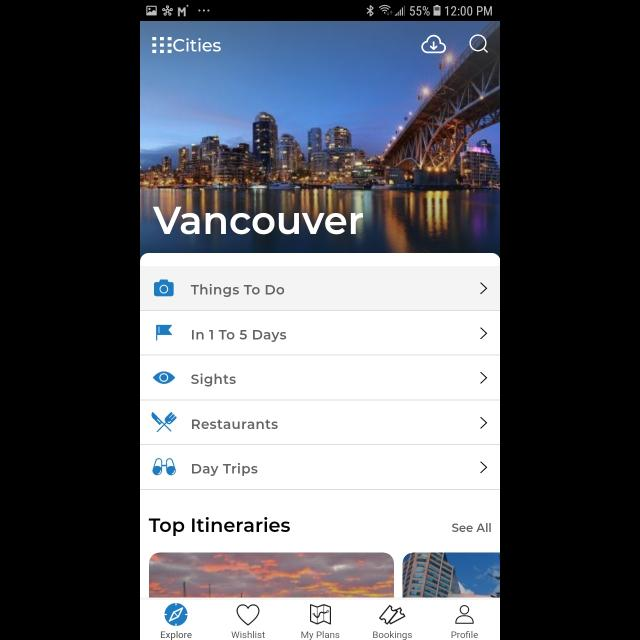icon: (378, 605, 406, 625), (165, 602, 188, 626), (237, 604, 260, 626), (310, 604, 332, 624), (422, 36, 446, 54), (468, 34, 488, 54), (154, 279, 174, 297), (454, 606, 474, 624), (152, 37, 172, 54), (152, 372, 175, 384), (480, 462, 488, 474), (480, 417, 488, 429), (480, 372, 488, 384), (480, 328, 488, 340), (480, 282, 488, 294)
image: (140, 21, 500, 252), (150, 552, 394, 598), (402, 554, 500, 598), (151, 412, 177, 432), (153, 457, 177, 475), (156, 325, 172, 341)
text: (153, 207, 363, 235), (150, 516, 290, 536), (192, 283, 284, 297), (192, 330, 288, 342), (192, 463, 258, 477), (192, 419, 278, 429), (174, 39, 222, 53), (192, 374, 236, 386), (452, 523, 492, 533), (373, 631, 412, 640), (302, 631, 340, 640), (161, 631, 192, 640), (452, 630, 478, 638), (231, 632, 265, 638)
uppertaskbar: (140, 1, 500, 22)
